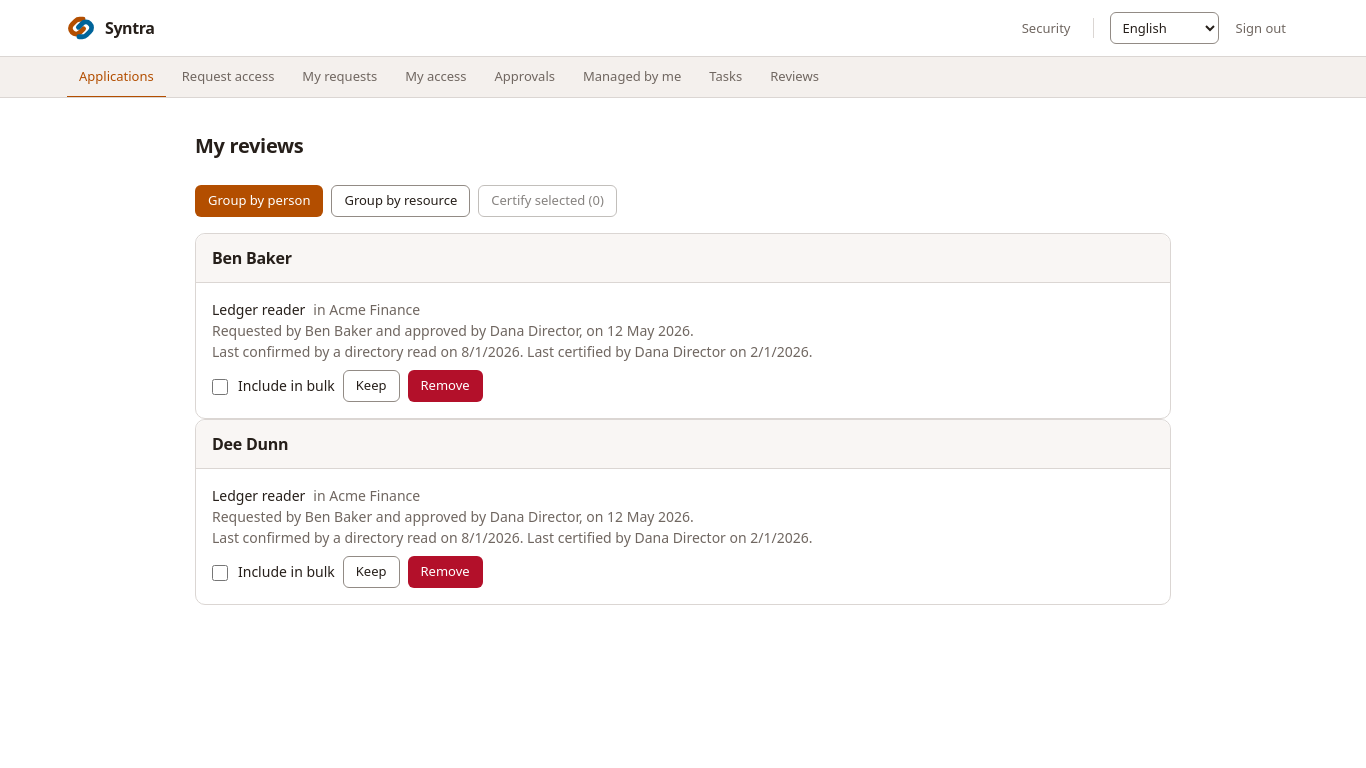
Scenario: a selection spanning two campaigns › reports refusals from all of them
Expected: the heading "Ben Baker" is shown, [212,246,292,270]
Click the 1st checkbox labelled "Include in bulk" at (220, 387), box [212,379,228,395]
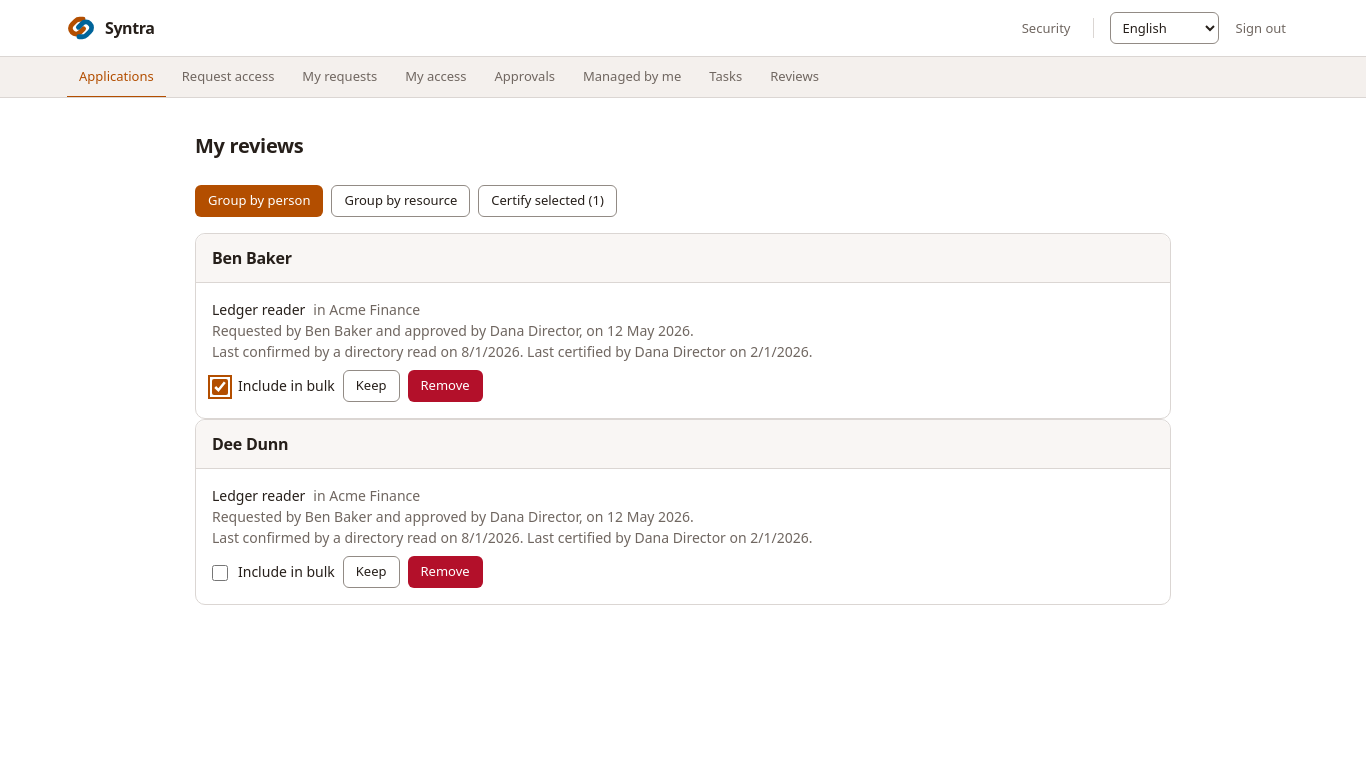
Click the checkbox labelled "Include in bulk" below "Dee Dunn" at (220, 573), box [212,565,228,581]
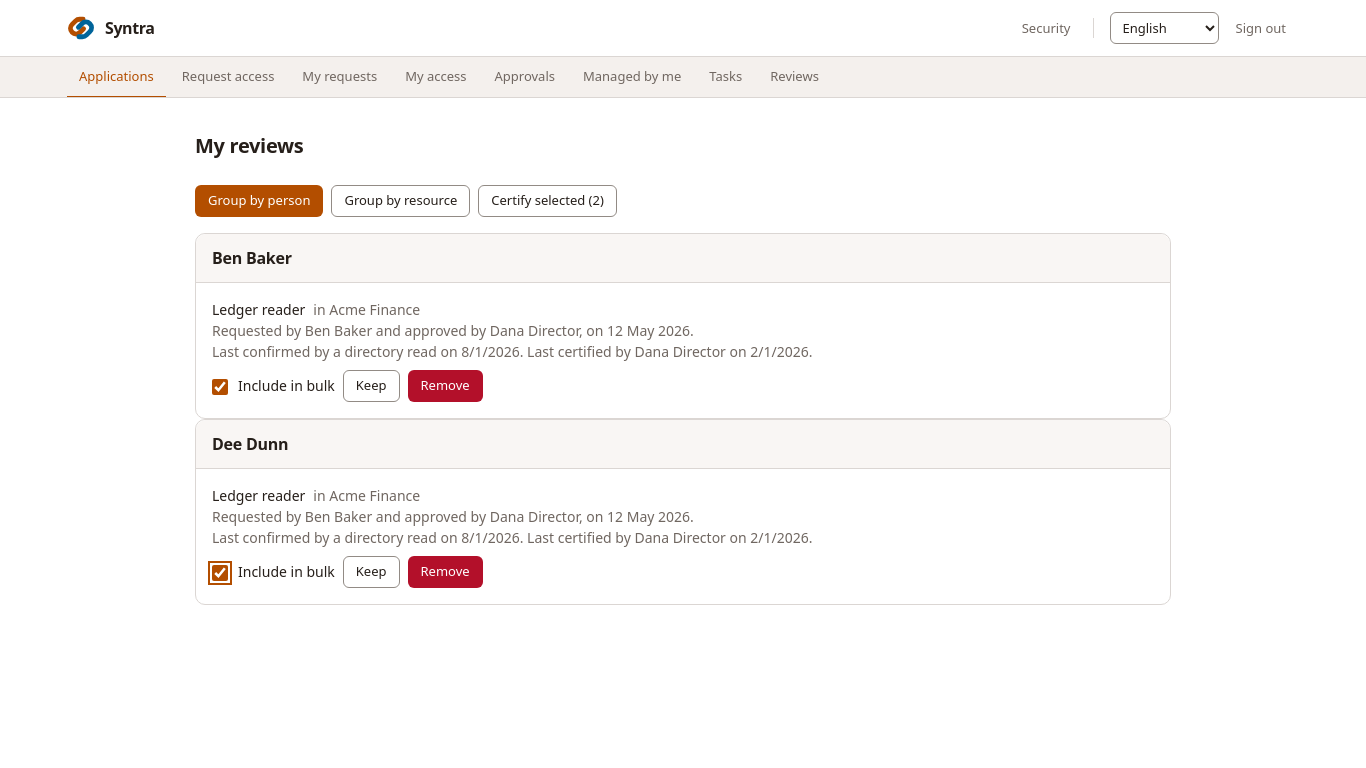
Click the button "Certify selected (2)" at (548, 201), box [478,185,617,217]
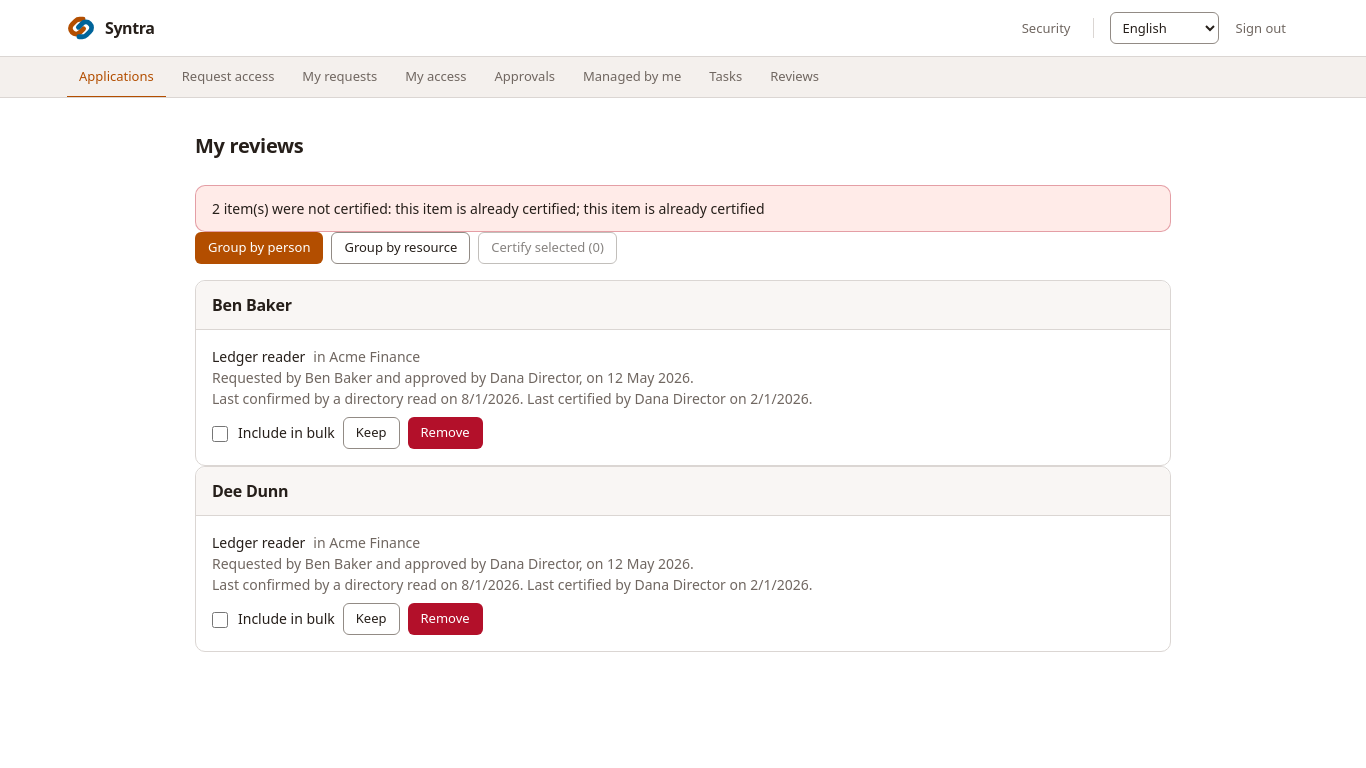
Expected: the text "2 item(s) were not certified" is shown, [212,199,765,218]
